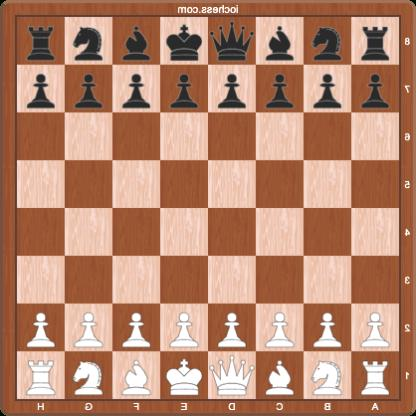black-bishop: (261, 22, 296, 62), (118, 23, 152, 61)
black-king: (163, 22, 204, 62)
black-knight: (68, 22, 106, 63), (308, 23, 344, 62)
black-pawn: (165, 69, 201, 110), (261, 70, 297, 110), (309, 71, 344, 111), (357, 70, 392, 110), (24, 70, 58, 110), (72, 70, 106, 110), (120, 70, 152, 110), (217, 70, 248, 111)
black-queen: (206, 18, 254, 62)
black-rook: (21, 21, 58, 62), (356, 22, 392, 62)
white-bishop: (262, 357, 296, 397), (118, 356, 152, 396)
white-king: (164, 356, 204, 399)
white-knight: (306, 356, 347, 398), (69, 356, 107, 397)
white-pawn: (213, 308, 250, 350), (165, 308, 201, 350), (21, 308, 57, 350), (308, 309, 345, 349), (70, 309, 106, 350), (118, 309, 154, 349), (357, 308, 391, 350), (264, 307, 295, 349)
white-queen: (209, 355, 256, 398)
white-rook: (355, 355, 392, 398), (22, 357, 58, 397)
